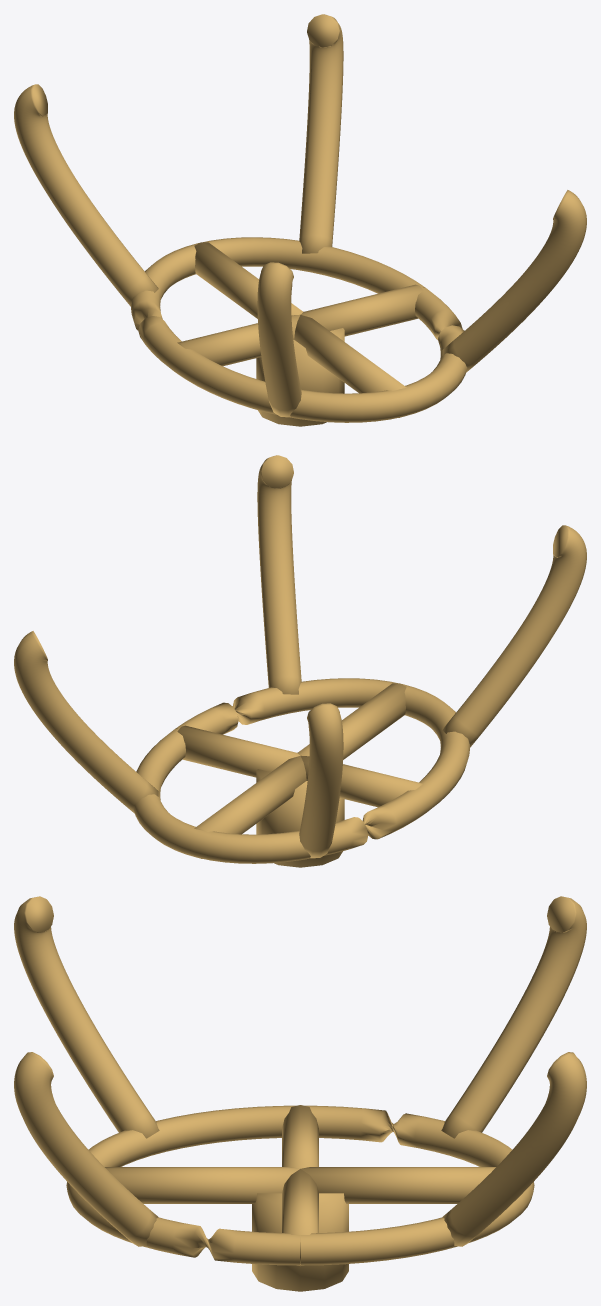
Rendered from stuller-lg-500094542-4-prong.glb.
3 views of the same model, one above another, from view 1: azimuth 30°, elevation 25°; view 2: azimuth 150°, elevation 25°; view 3: azimuth 270°, elevation 25° (orthographic). The views are drawn at different scales.
Visible parts, largest first — view 1: Metal.034, Metal.040, Metal.039, Metal.042, Metal.041, Metal.038, Metal.035, Metal.036, Metal.037, Metal.033; view 2: Metal.034, Metal.041, Metal.042, Metal.039, Metal.040, Metal.036, Metal.035, Metal.038, Metal.037, Metal.033; view 3: Metal.034, Metal.040, Metal.041, Metal.039, Metal.042, Metal.036, Metal.038, Metal.033, Metal.035, Metal.037.
Part boxes in pixels (x1=…): Metal.034: x1=130, y1=237, x2=467, y2=422; Metal.040: x1=14, y1=84, x2=158, y2=305; Metal.039: x1=299, y1=14, x2=343, y2=253; Metal.042: x1=442, y1=190, x2=586, y2=372; Metal.041: x1=257, y1=262, x2=301, y2=417; Metal.038: x1=294, y1=315, x2=406, y2=417; Metal.035: x1=300, y1=284, x2=423, y2=336; Metal.036: x1=194, y1=242, x2=302, y2=318; Metal.037: x1=177, y1=314, x2=299, y2=366; Metal.033: x1=256, y1=311, x2=344, y2=426; Metal.034: x1=133, y1=678, x2=470, y2=863; Metal.041: x1=442, y1=525, x2=586, y2=746; Metal.042: x1=257, y1=455, x2=301, y2=694; Metal.039: x1=14, y1=631, x2=158, y2=813; Metal.040: x1=299, y1=703, x2=343, y2=858; Metal.036: x1=194, y1=756, x2=306, y2=858; Metal.035: x1=177, y1=725, x2=300, y2=777; Metal.038: x1=298, y1=683, x2=406, y2=759; Metal.037: x1=301, y1=755, x2=423, y2=807; Metal.033: x1=256, y1=752, x2=344, y2=867; Metal.034: x1=66, y1=1105, x2=534, y2=1265; Metal.040: x1=441, y1=896, x2=586, y2=1138; Metal.041: x1=14, y1=896, x2=159, y2=1138; Metal.039: x1=442, y1=1052, x2=586, y2=1246; Metal.042: x1=14, y1=1052, x2=158, y2=1246; Metal.036: x1=301, y1=1167, x2=495, y2=1203; Metal.038: x1=105, y1=1167, x2=299, y2=1203; Metal.033: x1=252, y1=1193, x2=348, y2=1291; Metal.035: x1=282, y1=1169, x2=318, y2=1266; Metal.037: x1=282, y1=1105, x2=318, y2=1168.
Bounding box in the file's own units: 5.11 × 4.05 × 7.1.
